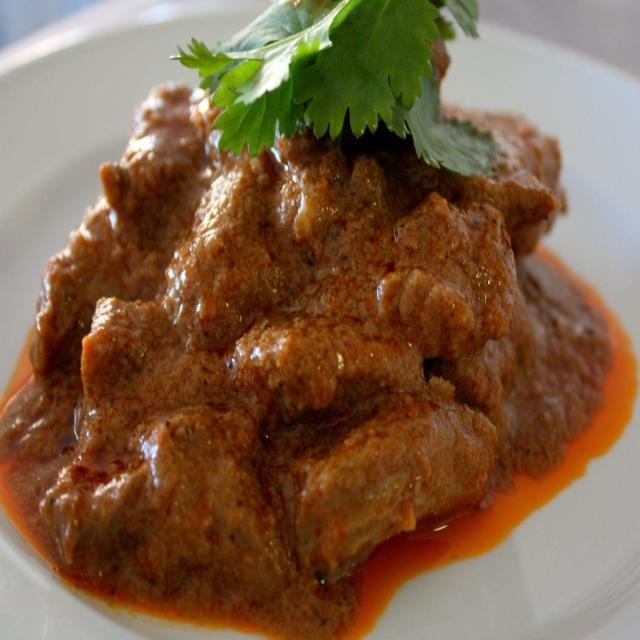Rendang: (0, 15, 607, 622)
